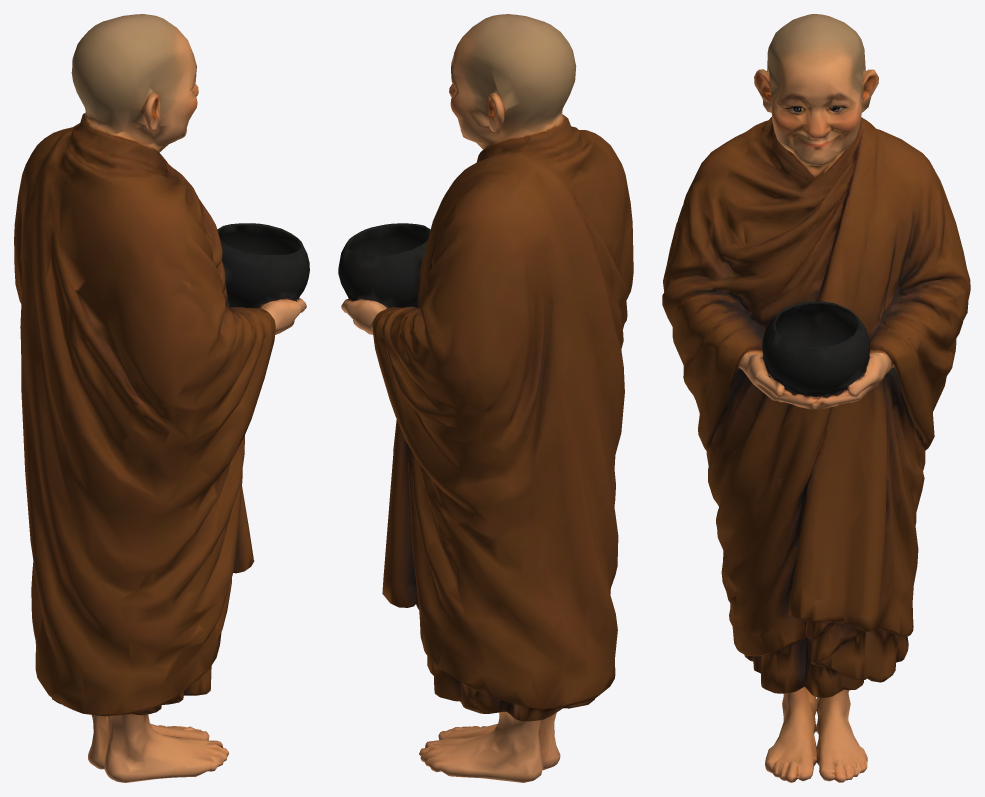
File: alms-monk.glb
3 views of the same model, side by side, from view 1: azimuth 30°, elevation 25°; view 2: azimuth 150°, elevation 25°; view 3: azimuth 270°, elevation 25° (orthographic). The views are drawn at different scales.
Parts seen in each view (by area): view 1: tripo_node_b0dbc7de-cc72-42dc-8366-38070229bc1e; view 2: tripo_node_b0dbc7de-cc72-42dc-8366-38070229bc1e; view 3: tripo_node_b0dbc7de-cc72-42dc-8366-38070229bc1e.
Boxes of the visible parts, x1=… form: tripo_node_b0dbc7de-cc72-42dc-8366-38070229bc1e: x1=14, y1=14, x2=309, y2=782; tripo_node_b0dbc7de-cc72-42dc-8366-38070229bc1e: x1=338, y1=14, x2=633, y2=782; tripo_node_b0dbc7de-cc72-42dc-8366-38070229bc1e: x1=662, y1=14, x2=970, y2=782.
Bounding box in the file's own units: 0.3625 × 0.9995 × 0.3848.
Materials: 1 (1 with a texture image).
